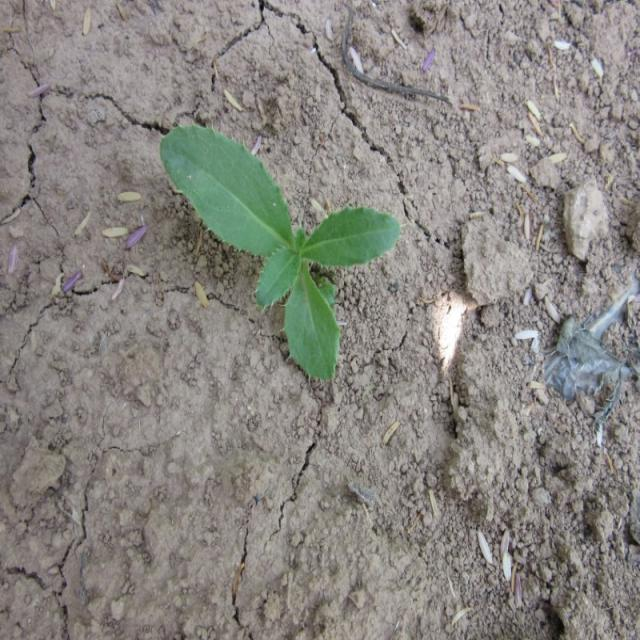field_thistle: (162, 115, 402, 387)
